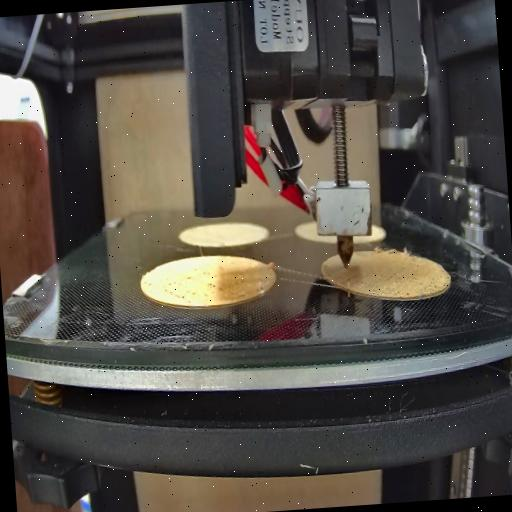under_extrusion: (152, 263, 228, 309), (382, 263, 448, 302), (250, 279, 268, 297)
